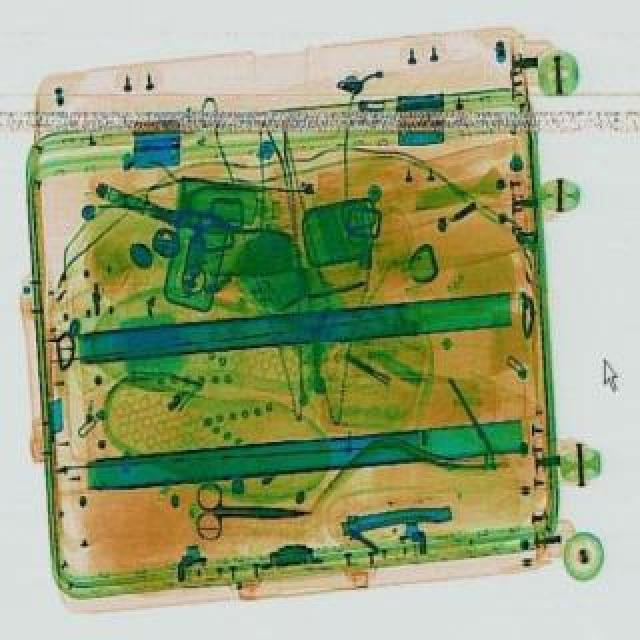pliers: (192, 480, 312, 540)
